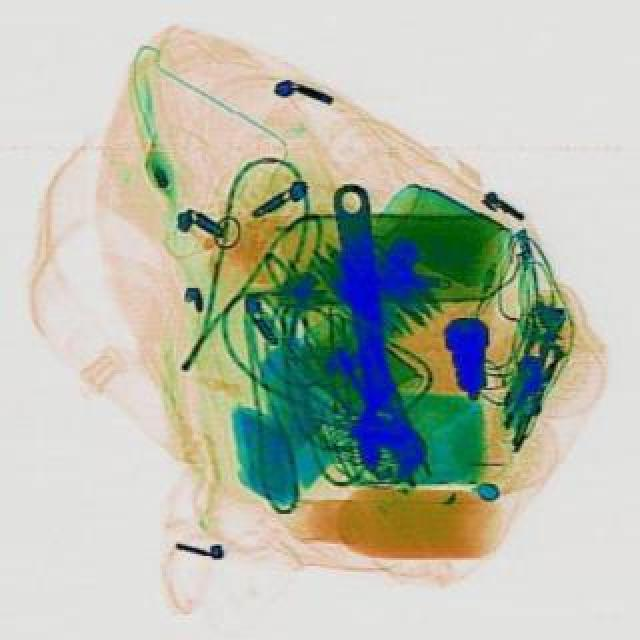scissors: (316, 178, 428, 482)
